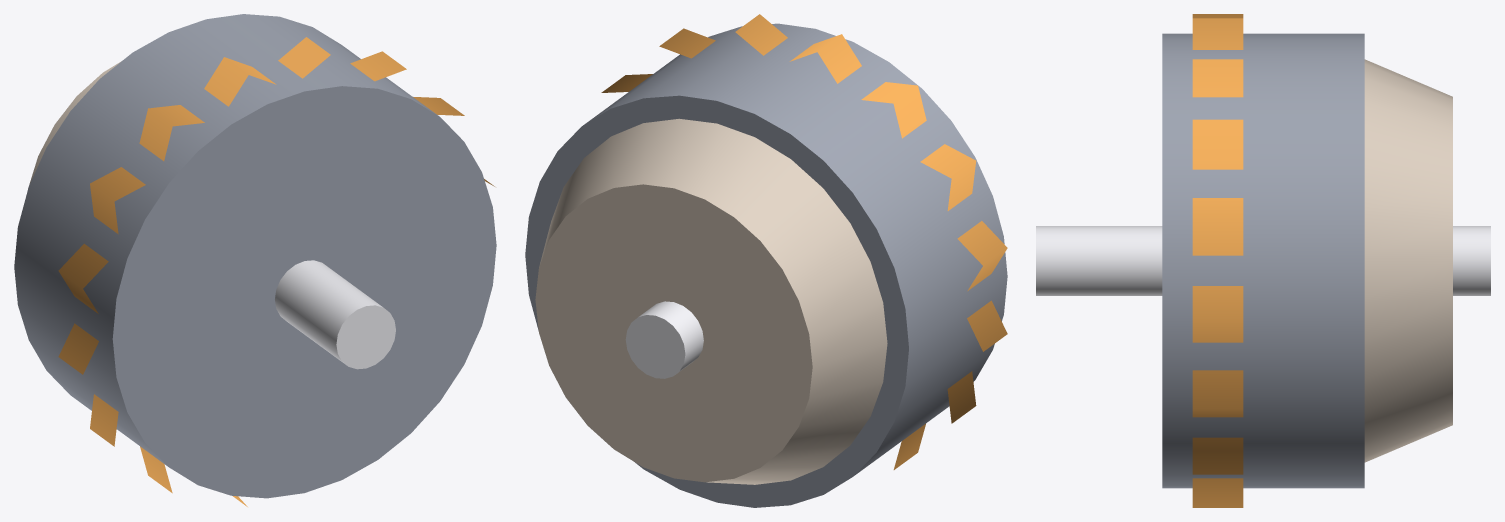
Rendered from turbine_stage.glb.
3 renders of one model, left to right at view 1: azimuth 30°, elevation 25°; view 2: azimuth 150°, elevation 25°; view 3: azimuth 270°, elevation 25°, orthographic. The views are drawn at different scales.
Parts seen in each view (by area): view 1: TurbineCasing, RotorBlades, ShaftSpindle, CombustorLiner; view 2: CombustorLiner, TurbineCasing, RotorBlades, ShaftSpindle; view 3: TurbineCasing, CombustorLiner, RotorBlades, ShaftSpindle.
Boxes of the visible parts, bbox=[...] form: TurbineCasing: bbox=[14, 14, 496, 498]; RotorBlades: bbox=[58, 37, 494, 506]; ShaftSpindle: bbox=[275, 260, 395, 369]; CombustorLiner: bbox=[28, 61, 121, 188]; CombustorLiner: bbox=[535, 118, 887, 484]; TurbineCasing: bbox=[525, 23, 1007, 507]; RotorBlades: bbox=[601, 14, 1007, 469]; ShaftSpindle: bbox=[625, 301, 703, 378]; TurbineCasing: bbox=[1162, 33, 1364, 488]; CombustorLiner: bbox=[1364, 59, 1452, 462]; RotorBlades: bbox=[1192, 14, 1243, 507]; ShaftSpindle: bbox=[1036, 226, 1490, 295].
Bounding box in the file's own units: 1.94 × 1.94 × 1.8.
